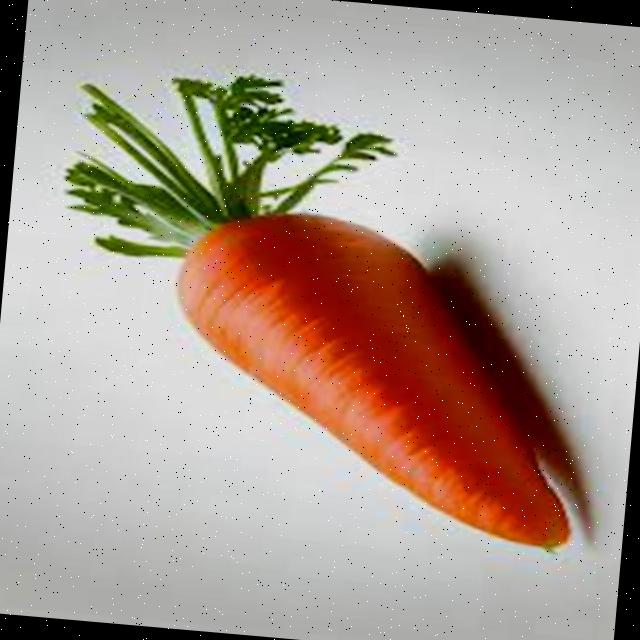carrot: (66, 77, 565, 548)
